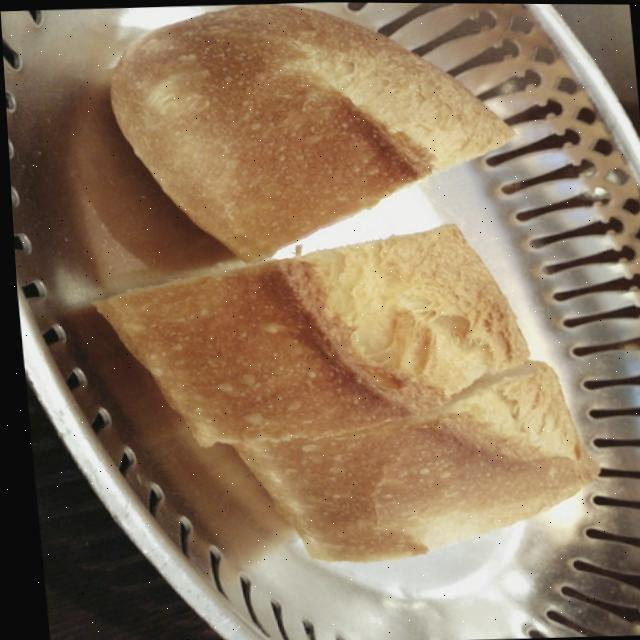汤锅炖物: (5, 108, 181, 325)
米饭主食: (22, 409, 342, 640)
